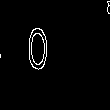O_S: (44, 28, 66, 82)
